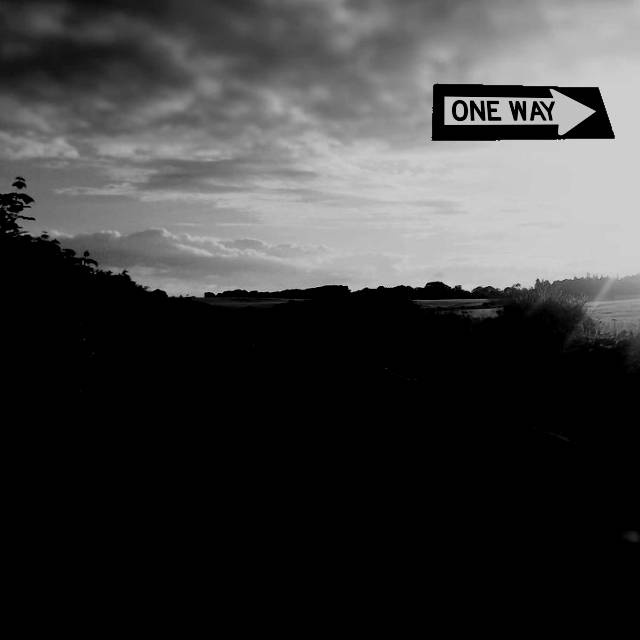ONE_WAY_ right: (431, 83, 615, 141)
